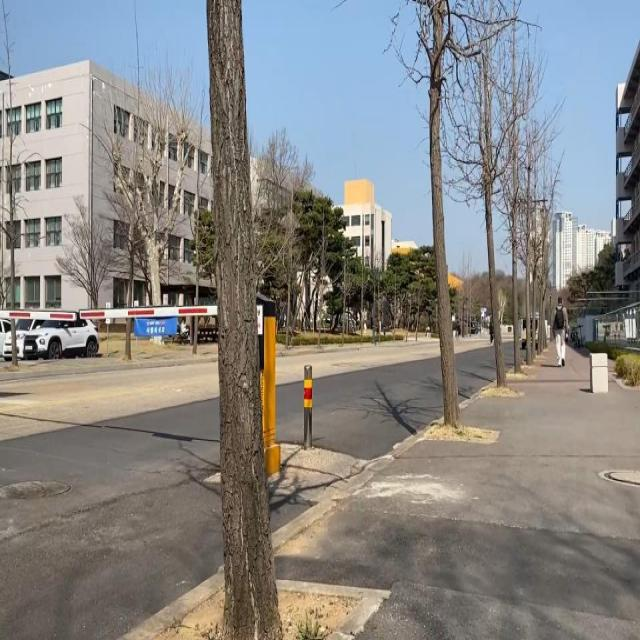sidewalk: (271, 345, 640, 640)
